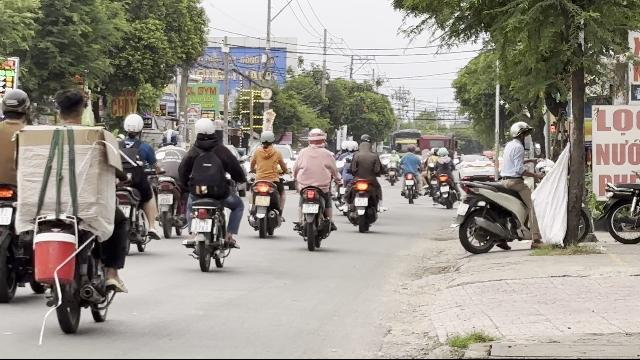helmet: (1, 87, 32, 120), (193, 118, 217, 142), (122, 112, 144, 138), (509, 121, 531, 142), (306, 128, 326, 146), (161, 129, 179, 145)
licenseplate: (192, 218, 212, 232), (158, 194, 174, 204), (303, 203, 319, 213)
motorcyclist: (2, 87, 138, 334), (451, 119, 547, 257), (180, 115, 244, 270), (1, 84, 36, 301), (113, 111, 159, 256), (290, 127, 338, 249), (153, 122, 187, 236)
nohelmet: (54, 89, 86, 123)
